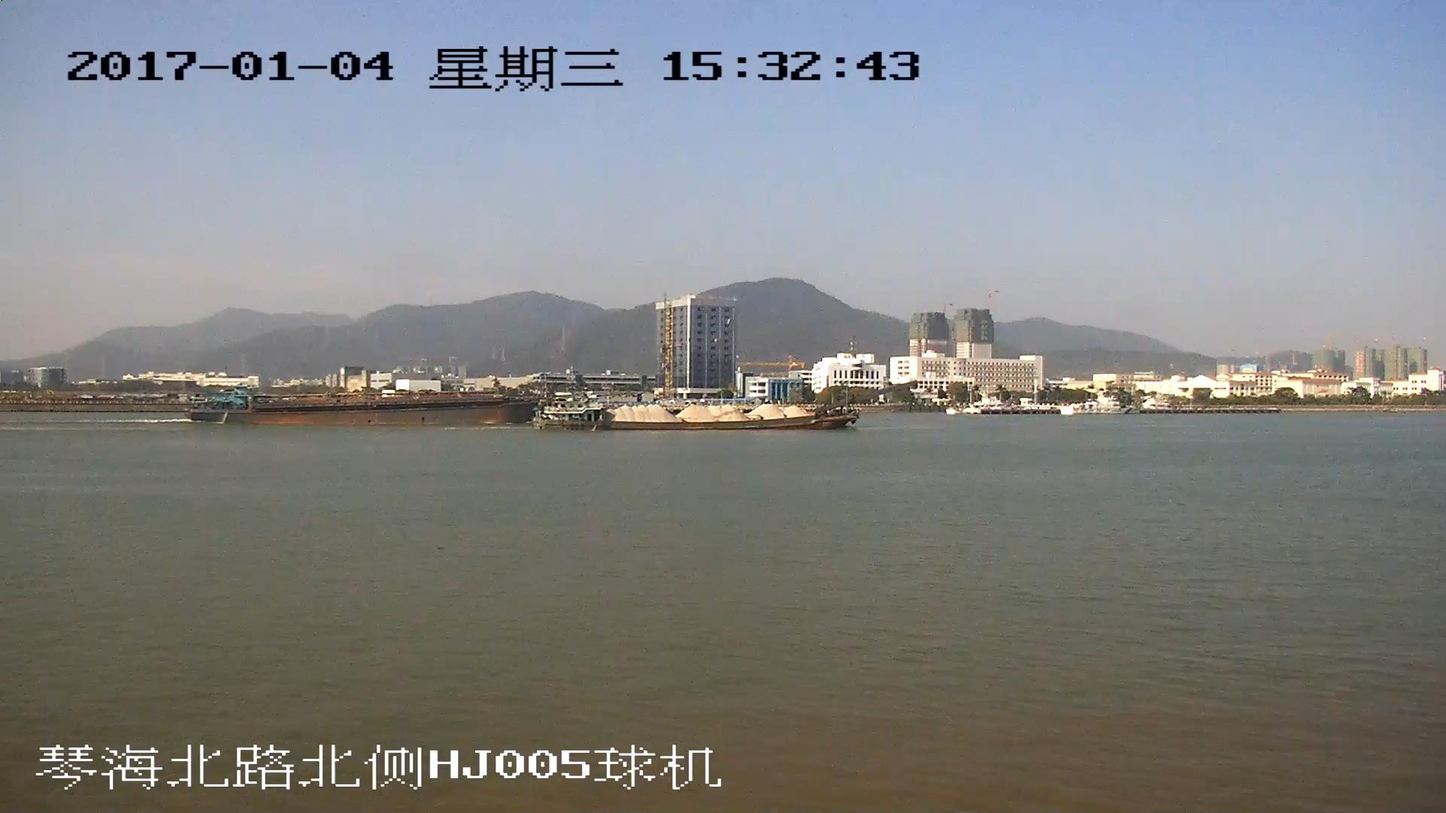bulk cargo carrier: (189, 382, 535, 423)
ore carrier: (544, 382, 914, 431)
